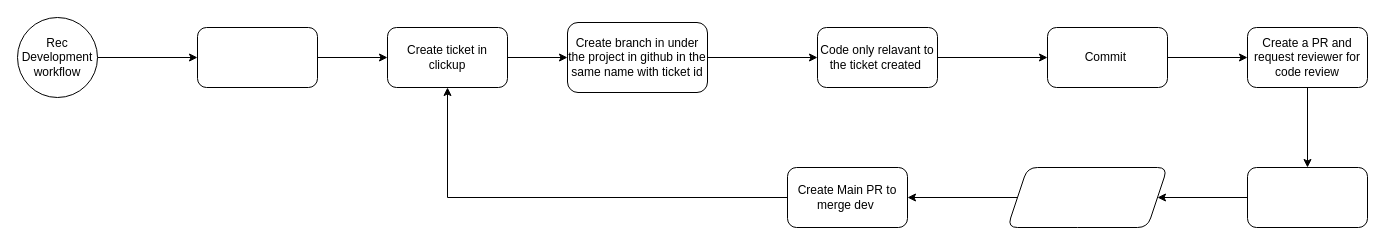
Some shapes in this 1385 by 245 pixel diagram are drawn without their labels. Each missing label, with the centre of its shape:
"Merge it to dev" belongs at (1307,197).
"Project Space in Clickup" belongs at (257,57).
"Test dev branch build after merge" belongs at (1087,197).
